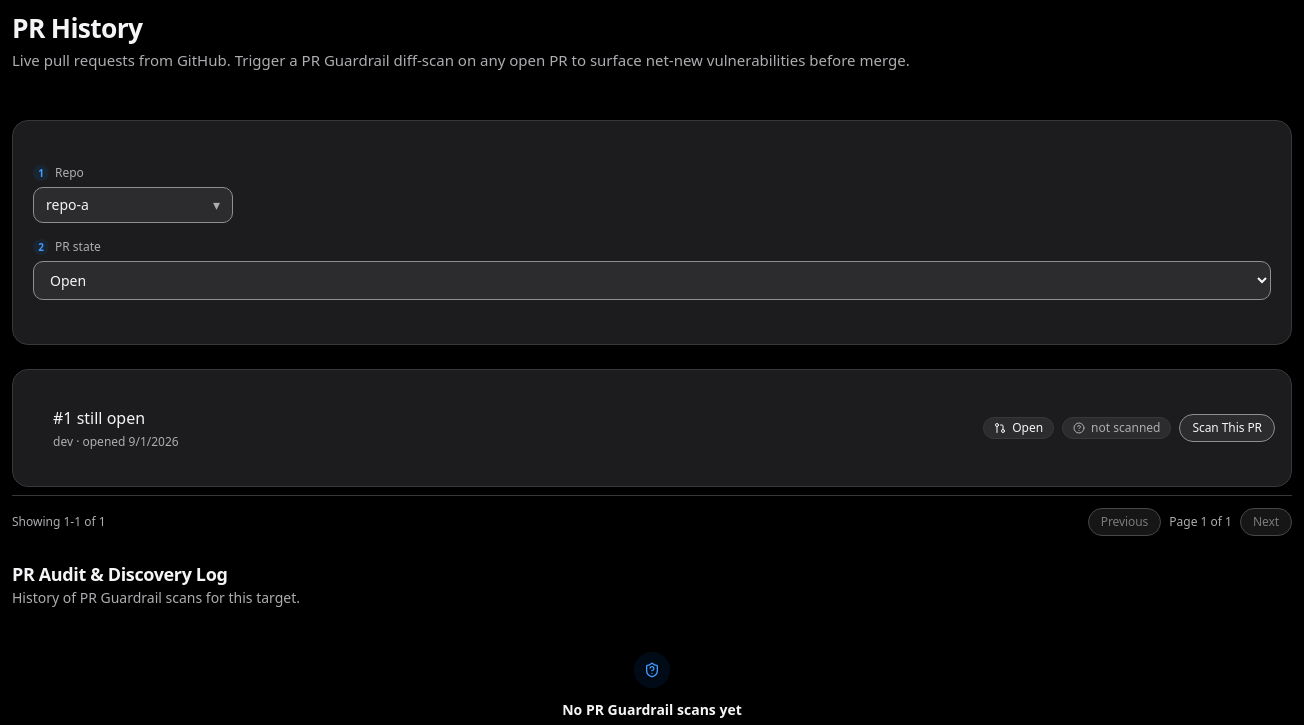
Test case: PR state filter › asks the server for the state rather than trimming a fetched page
Expected: the link "#1 still open" is shown, [53,406,145,430]
Select "Closed" in the dropdown named "PR state" at (652,281), box [33,261,1271,300]
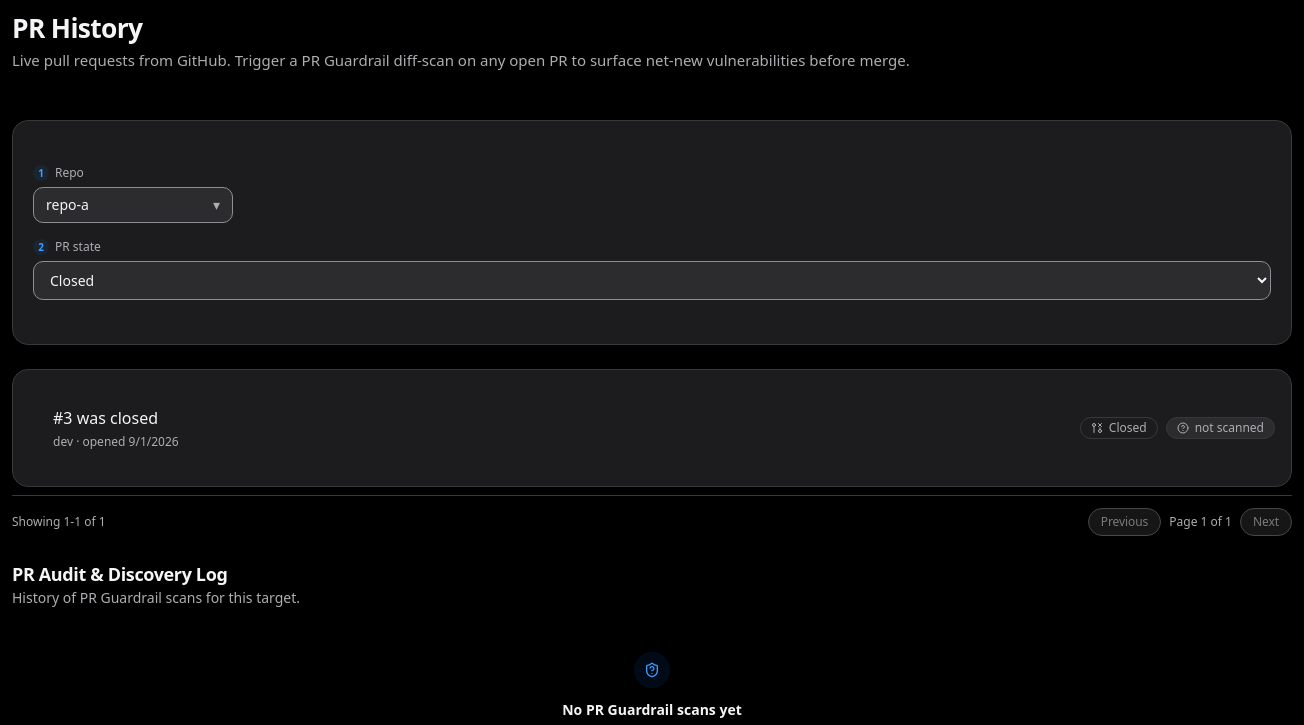
Now the link "#3 was closed" is shown, box [53,406,158,430]
